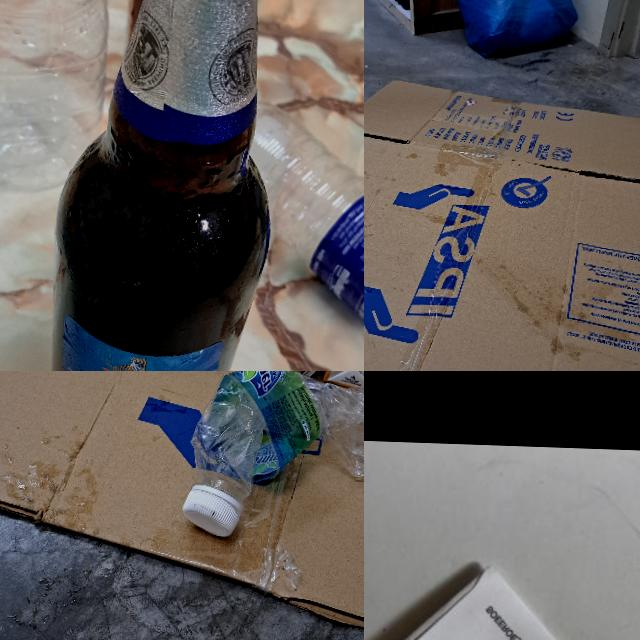garrafa de vidro: (42, 0, 280, 371)
garrafa plástica: (237, 102, 364, 352), (188, 371, 364, 507), (0, 0, 116, 197)
papel: (364, 559, 640, 640)
papelão: (0, 371, 364, 640), (364, 72, 640, 371)
sacola plástica: (449, 0, 581, 60)
tampa plástica: (181, 490, 242, 538)
